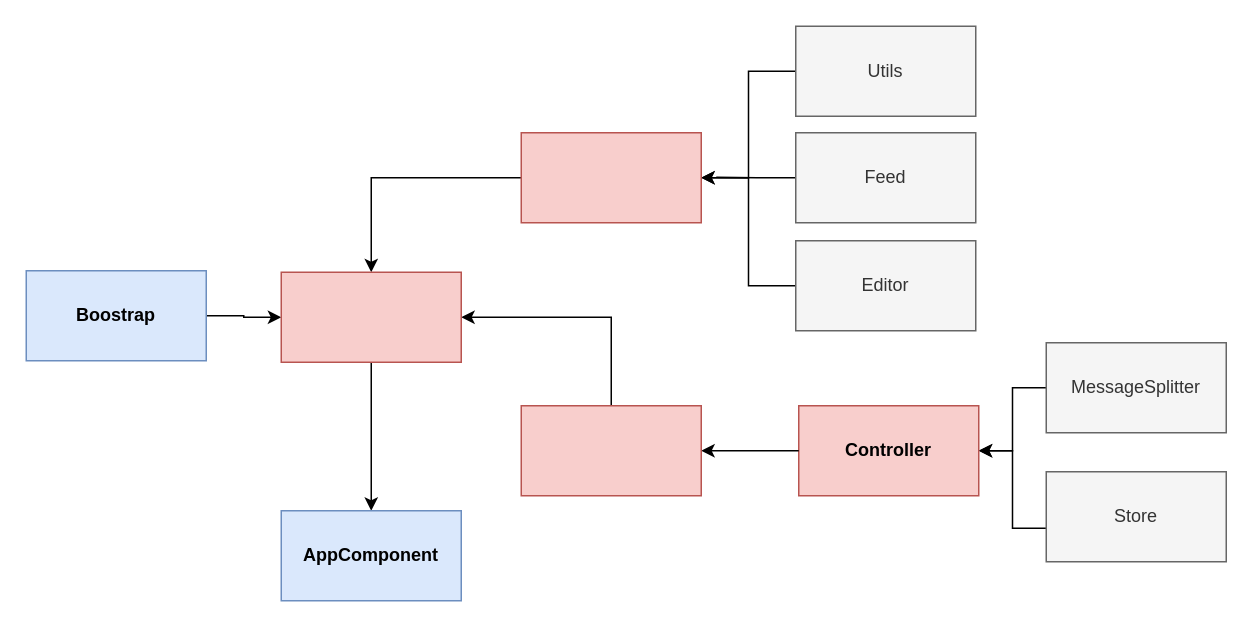
Image size: 1253x627. Some labels were removed from this diagram. The centre of each missing label's shape, as x and y in pixels:
AppModule: the point at 370,316
Dump Container: the point at 610,177
Service: the point at 610,450
